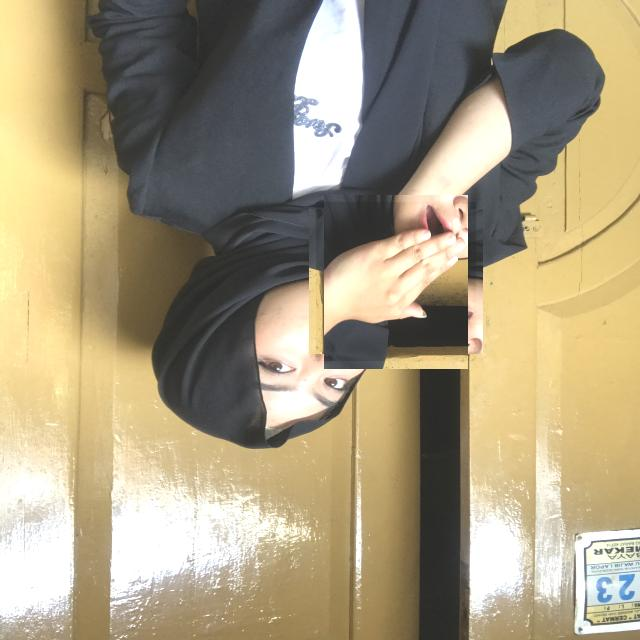ngantuk: (316, 202, 476, 361)
